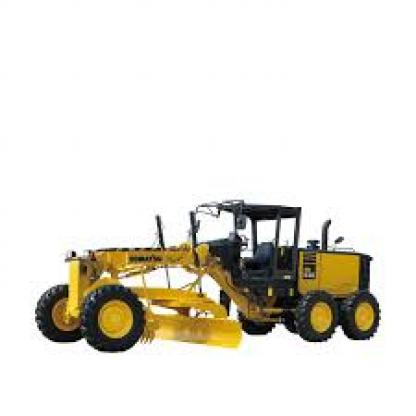bull_dozer/loader/grader: (32, 175, 386, 369)
